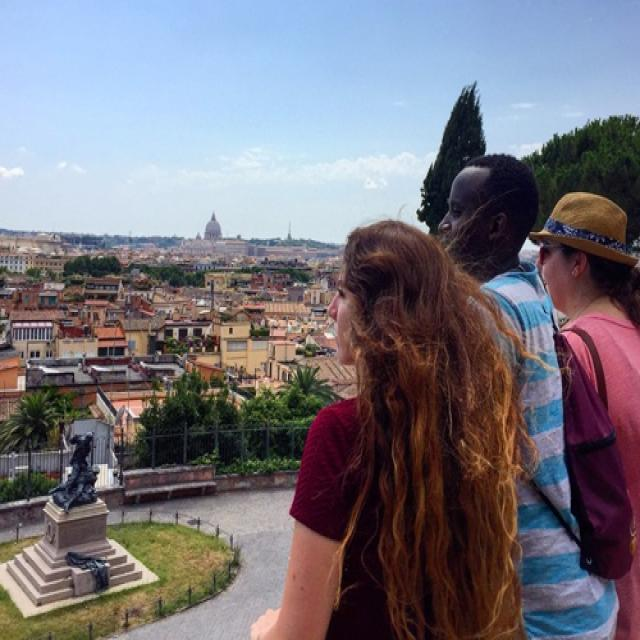body: (242, 213, 534, 638), (430, 149, 639, 640), (513, 180, 639, 638), (44, 426, 104, 516)
